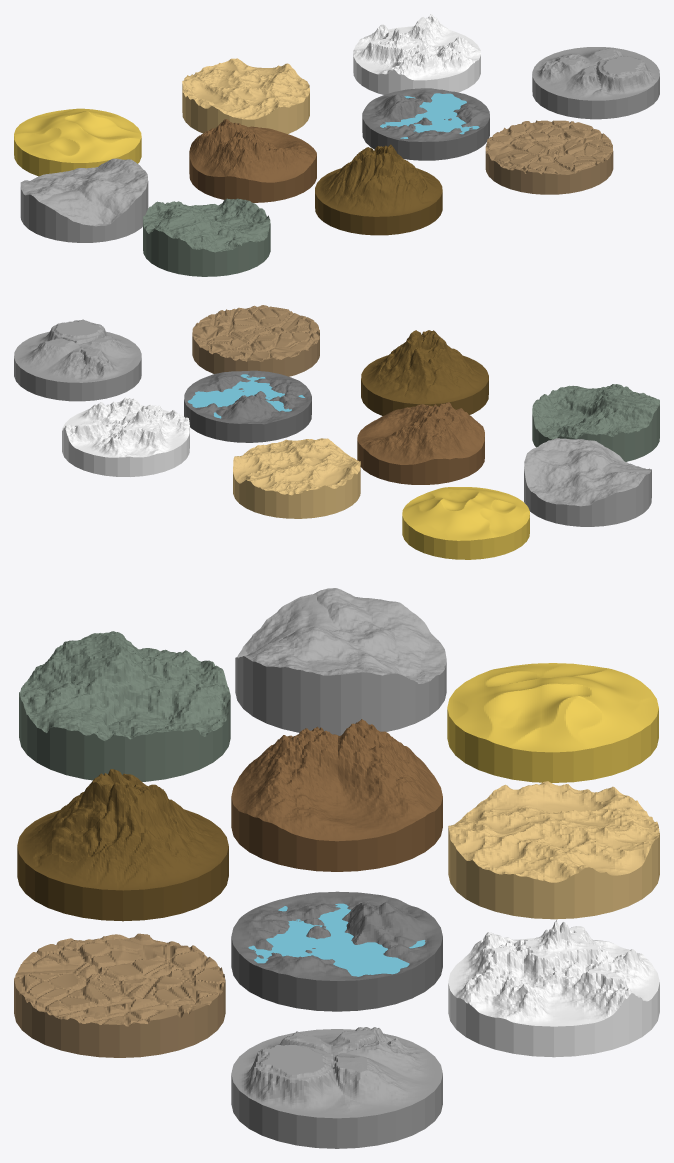
File: free__10_landscape_low_poly_sdc.glb
The picture shows the model from 3 angles, top to bottom: view 1: azimuth 30°, elevation 25°; view 2: azimuth 150°, elevation 25°; view 3: azimuth 270°, elevation 25°; orthographic projection. The views are drawn at different scales.
Parts seen in each view (by area): view 1: Landscape.010_8, Landscape.008_6, Landscape.011_9, Landscape_0, Landscape.006_5, Landscape.004_3, Landscape.002_1, Landscape.005_4, Landscape.003_2, Landscape.009_7; view 2: Landscape.010_8, Landscape.005_4, Landscape_0, Landscape.004_3, Landscape.002_1, Landscape.009_7, Landscape.003_2, Landscape.008_6, Landscape.006_5, Landscape.011_9; view 3: Landscape.011_9, Landscape_0, Landscape.010_8, Landscape.005_4, Landscape.008_6, Landscape.002_1, Landscape.006_5, Landscape.009_7, Landscape.004_3, Landscape.003_2.
Part boxes in pixels (x1,y1,x2,y2): Landscape.010_8: (20, 158, 148, 242); Landscape.008_6: (315, 144, 442, 235); Landscape.011_9: (143, 198, 270, 276); Landscape_0: (189, 119, 316, 202); Landscape.006_5: (485, 120, 613, 194); Landscape.004_3: (532, 47, 659, 119); Landscape.002_1: (353, 14, 480, 94); Landscape.005_4: (182, 58, 309, 133); Landscape.003_2: (362, 88, 489, 160); Landscape.009_7: (14, 108, 141, 176); Landscape.010_8: (524, 438, 651, 526); Landscape.005_4: (233, 438, 360, 518); Landscape_0: (357, 402, 484, 484); Landscape.004_3: (14, 319, 141, 401); Landscape.002_1: (62, 397, 189, 476); Landscape.009_7: (402, 487, 529, 559); Landscape.003_2: (184, 370, 311, 442); Landscape.008_6: (361, 330, 488, 415); Landscape.006_5: (192, 305, 319, 376); Landscape.011_9: (532, 384, 659, 461); Landscape.011_9: (19, 631, 230, 781); Landscape_0: (231, 719, 442, 871); Landscape.010_8: (235, 588, 446, 735); Landscape.005_4: (448, 781, 659, 919); Landscape.008_6: (17, 769, 228, 921); Landscape.002_1: (448, 920, 659, 1057); Landscape.006_5: (14, 933, 225, 1057); Landscape.009_7: (447, 663, 658, 782); Landscape.004_3: (231, 1027, 442, 1148); Landscape.003_2: (231, 891, 442, 1011).
Size of the model in its own units: 33.27 by 3.14 by 18.1.
